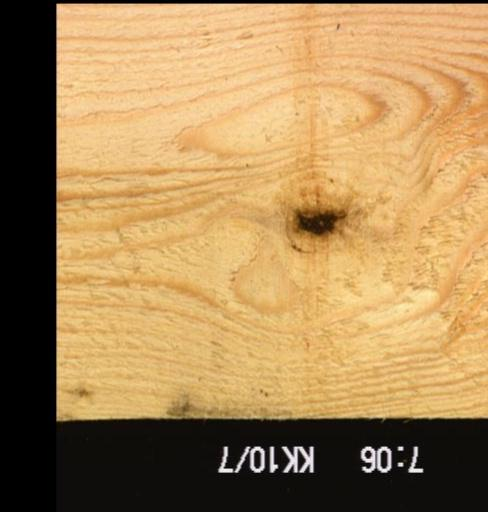small_knot: (69, 385, 92, 400)
